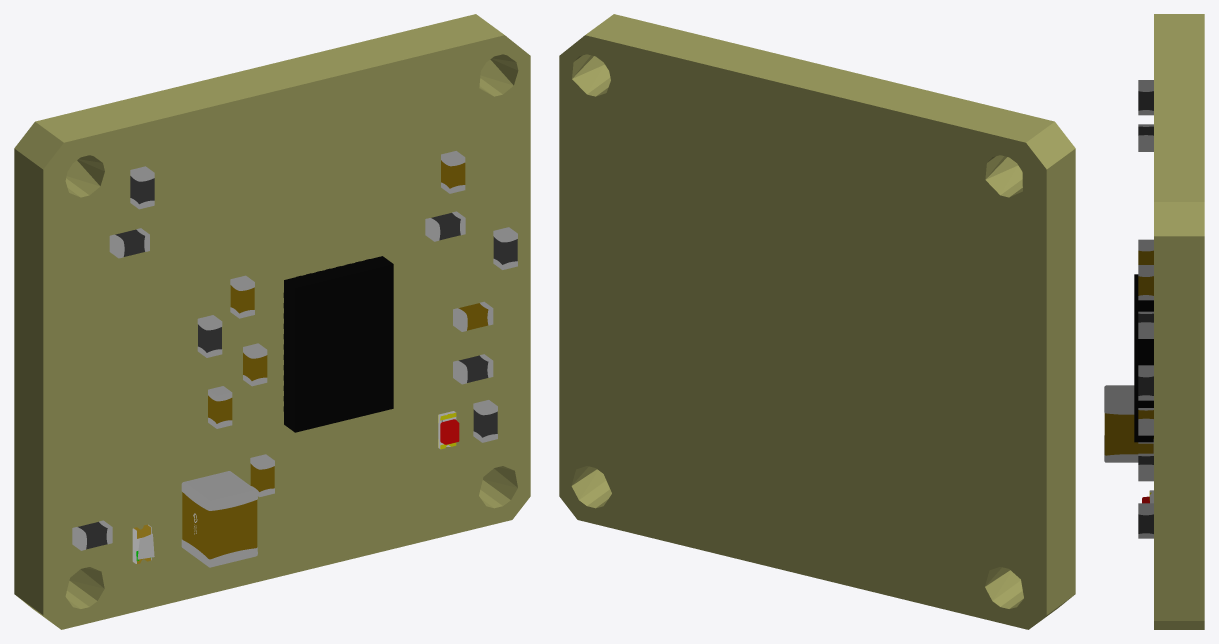
The model's file is OBJ_simplefocmini_v2.obj.
3 renders of one model, left to right at view 1: azimuth 30°, elevation 25°; view 2: azimuth 150°, elevation 25°; view 3: azimuth 270°, elevation 25°, orthographic. The views are drawn at different scales.
Size of the model in its own units: 97.3 by 92.8 by 19.84.
